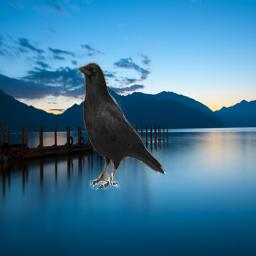Crow: (77, 60, 166, 190)
